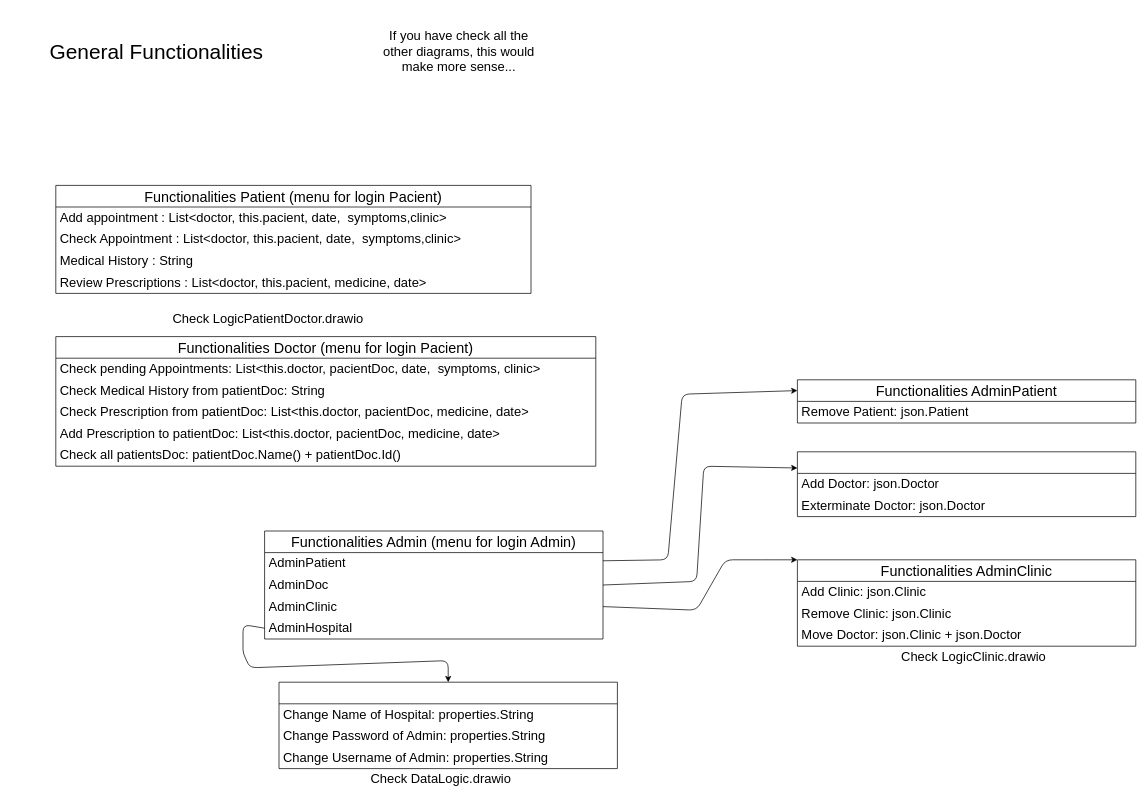
Image size: 1148x802. Some labels were removed from this diagram. Here are the shapes that lost their labels. From the top down, the box of each, then its label:
(797, 451, 1136, 517): Functionalities AdminDoc
(278, 681, 617, 769): Functionalities AdminHospital
